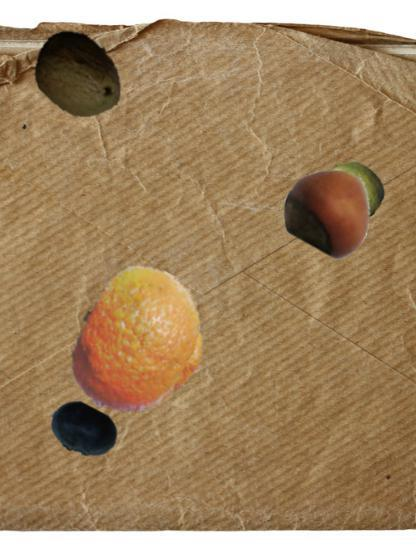Blueberry: (49, 396, 118, 465)
Limes: (322, 160, 385, 223)
Mandarine: (65, 268, 215, 418)
Nut: (286, 164, 376, 254)
Papaya: (30, 26, 129, 125)
